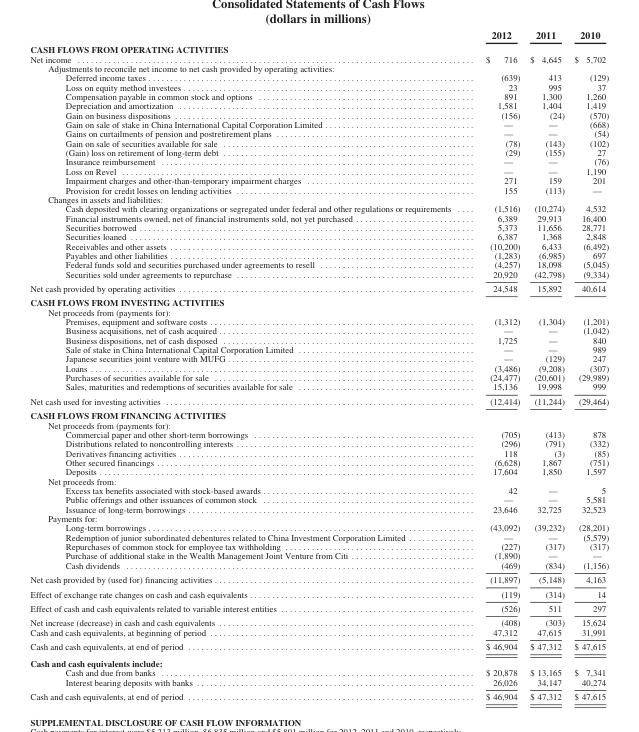table: (29, 28, 608, 701)
table column: (29, 28, 467, 701), (467, 28, 524, 701), (524, 28, 568, 701), (568, 28, 608, 701)
table column header: (29, 28, 608, 42)
table projected row header: (29, 654, 608, 667), (29, 42, 608, 54), (29, 295, 608, 307), (29, 407, 608, 419), (29, 419, 608, 429), (29, 475, 608, 485), (29, 63, 608, 72), (29, 194, 608, 203), (29, 307, 608, 316), (29, 513, 608, 522)
table row: (29, 638, 608, 654), (29, 280, 608, 295), (29, 571, 608, 586), (29, 600, 608, 615), (29, 28, 608, 42), (29, 393, 608, 407), (29, 586, 608, 600), (29, 654, 608, 667), (29, 688, 608, 701), (29, 42, 608, 54), (29, 268, 608, 280), (29, 295, 608, 307), (29, 381, 608, 393), (29, 407, 608, 419), (29, 615, 608, 627), (29, 560, 608, 571), (29, 627, 608, 638), (29, 677, 608, 688), (29, 72, 608, 82), (29, 100, 608, 110), (29, 128, 608, 138), (29, 156, 608, 166), (29, 184, 608, 194), (29, 212, 608, 222), (29, 240, 608, 250), (29, 325, 608, 335), (29, 353, 608, 363), (29, 419, 608, 429), (29, 447, 608, 457), (29, 475, 608, 485), (29, 494, 608, 504), (29, 522, 608, 532), (29, 550, 608, 560), (29, 667, 608, 677), (29, 54, 608, 63), (29, 63, 608, 72), (29, 82, 608, 91), (29, 91, 608, 100), (29, 110, 608, 119), (29, 119, 608, 128), (29, 138, 608, 147), (29, 147, 608, 156), (29, 166, 608, 175), (29, 175, 608, 184), (29, 194, 608, 203), (29, 203, 608, 212), (29, 222, 608, 231), (29, 231, 608, 240), (29, 250, 608, 259), (29, 259, 608, 268), (29, 307, 608, 316), (29, 316, 608, 325), (29, 335, 608, 344), (29, 344, 608, 353), (29, 363, 608, 372), (29, 372, 608, 381), (29, 429, 608, 438), (29, 438, 608, 447), (29, 457, 608, 466), (29, 466, 608, 475), (29, 485, 608, 494), (29, 504, 608, 513), (29, 513, 608, 522), (29, 532, 608, 541), (29, 541, 608, 550)
